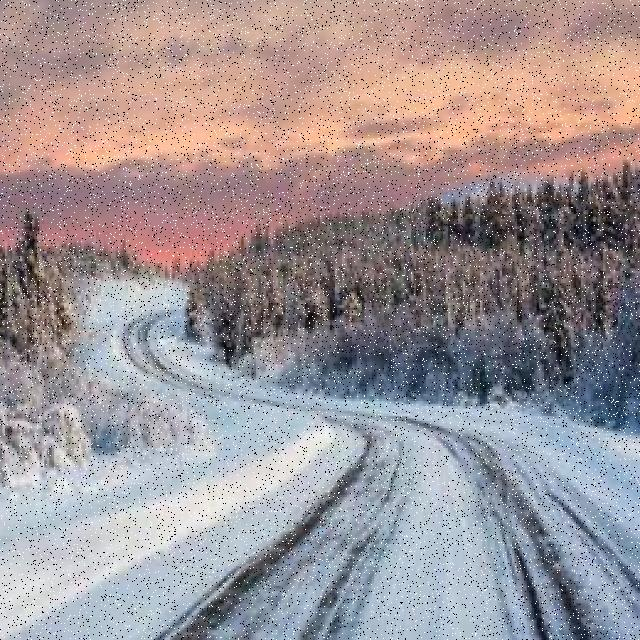ice-road: (140, 408, 640, 640), (117, 308, 265, 404)
